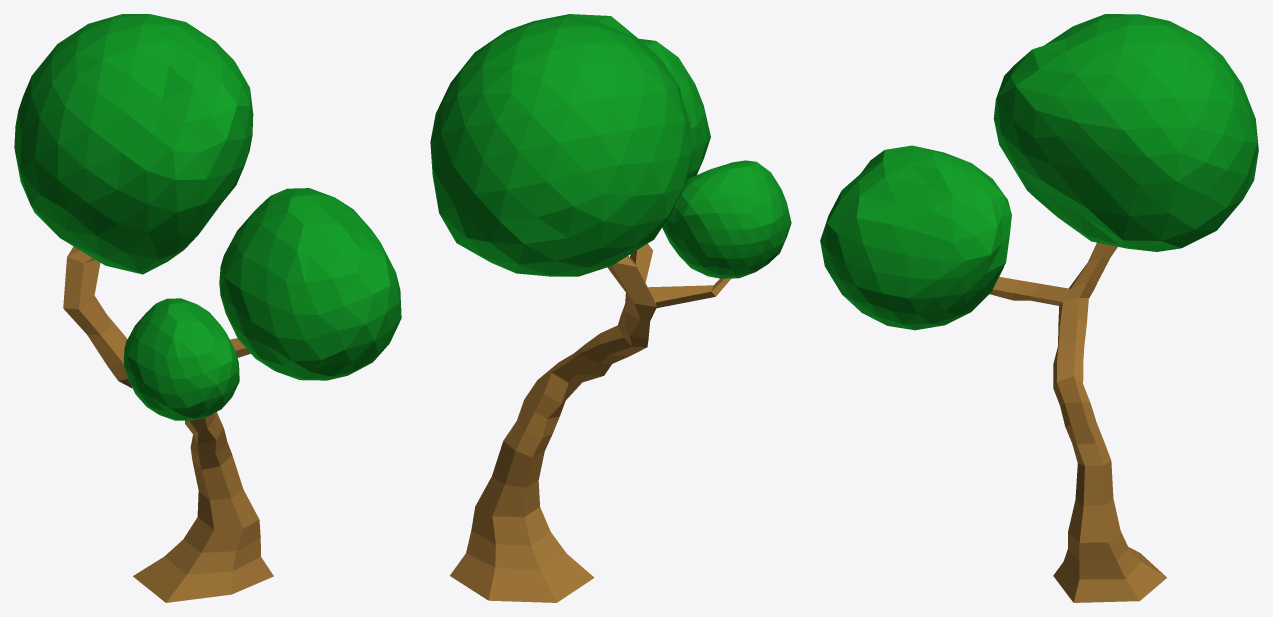
The model's file is Arbre plaine.fbx.
3 views of the same model, side by side, from view 1: azimuth 30°, elevation 25°; view 2: azimuth 150°, elevation 25°; view 3: azimuth 270°, elevation 25° (orthographic). The views are drawn at different scales.
Visible parts, largest first — view 1: Cube; view 2: Cube; view 3: Cube.
Part boxes in pixels (box(x1,y1,x2,y2)): Cube: box(14, 14, 401, 602); Cube: box(430, 14, 791, 602); Cube: box(820, 14, 1258, 602).
Size of the model in its own units: 448 by 946 by 709.
